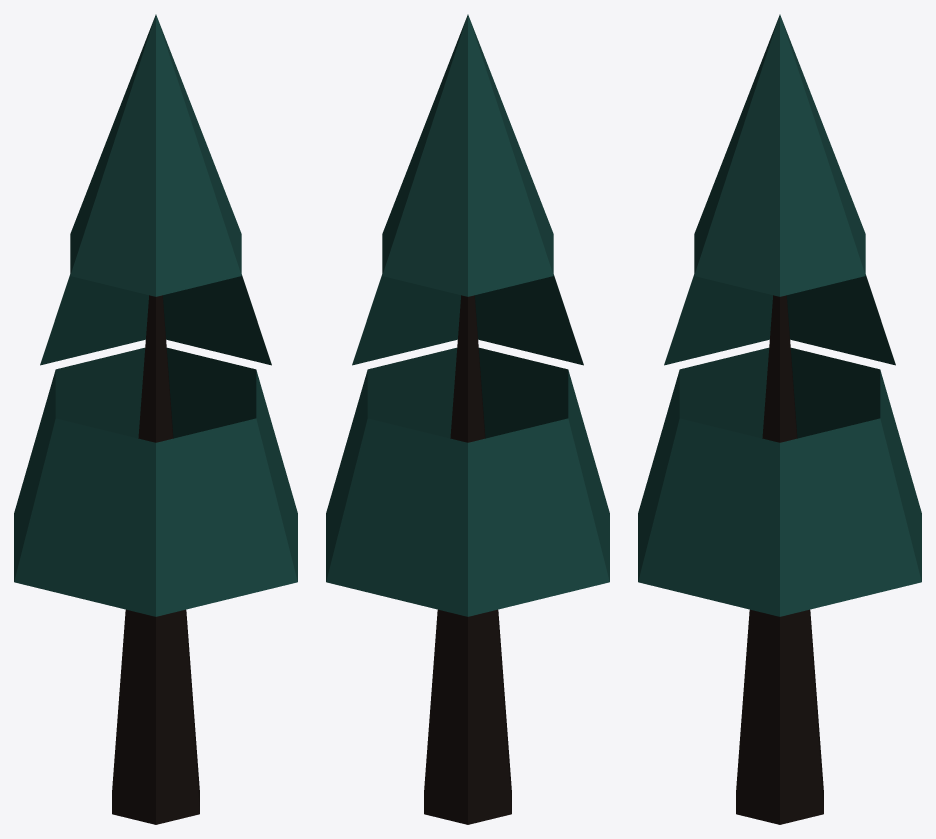
Rendered from littleTree.obj.
3 renders of one model, left to right at view 1: azimuth 30°, elevation 25°; view 2: azimuth 150°, elevation 25°; view 3: azimuth 270°, elevation 25°, orthographic.
Parts seen in each view (by area): view 1: Cylinder.007_Cylinder.014; view 2: Cylinder.007_Cylinder.014; view 3: Cylinder.007_Cylinder.014.
Part boxes in pixels (box(x1,y1,x2,y2)): Cylinder.007_Cylinder.014: box(14, 14, 297, 824); Cylinder.007_Cylinder.014: box(326, 14, 609, 824); Cylinder.007_Cylinder.014: box(638, 14, 921, 824).
Size of the model in its own units: 0.5681 by 1.51 by 0.492.
